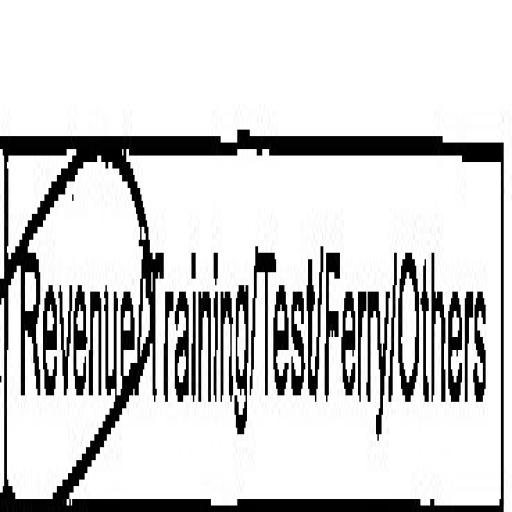check: (0, 32, 143, 512)
